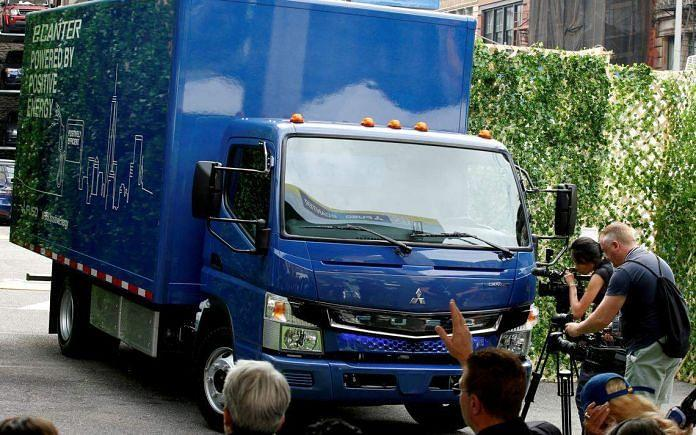truck: (9, 1, 540, 426)
